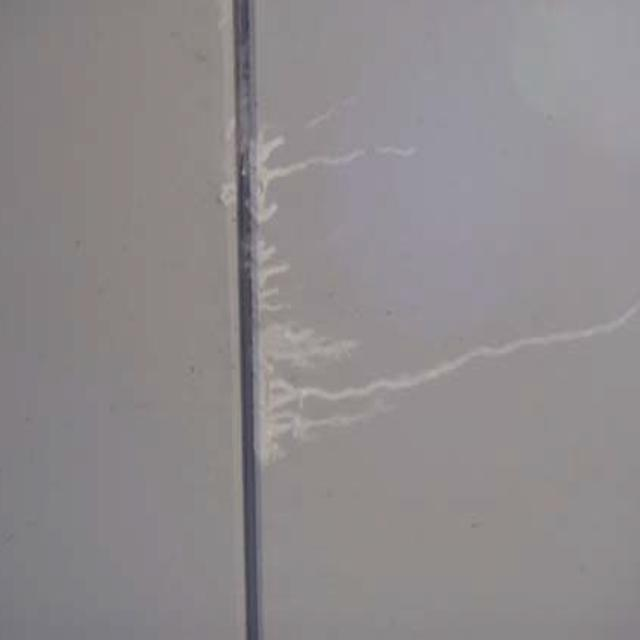freelime: (237, 120, 399, 463)
